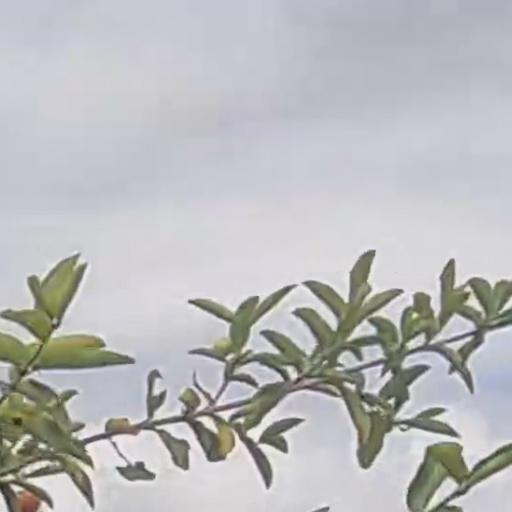acerola_vermelha: (18, 493, 39, 510)
